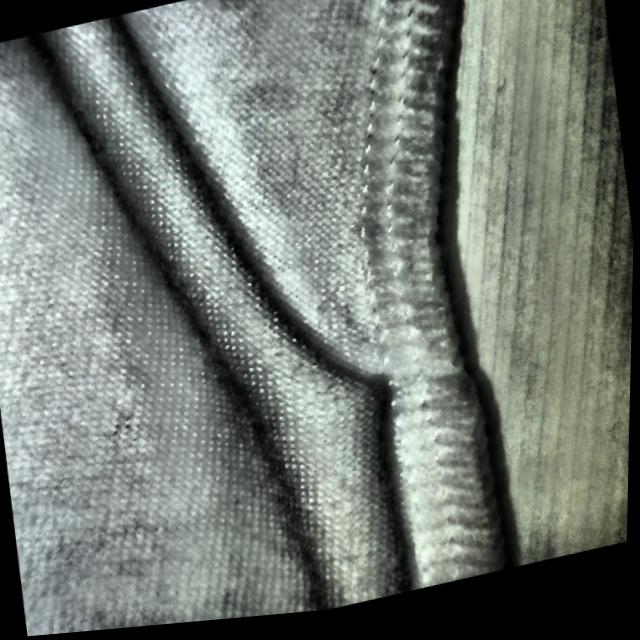seam: (259, 294, 505, 543)
